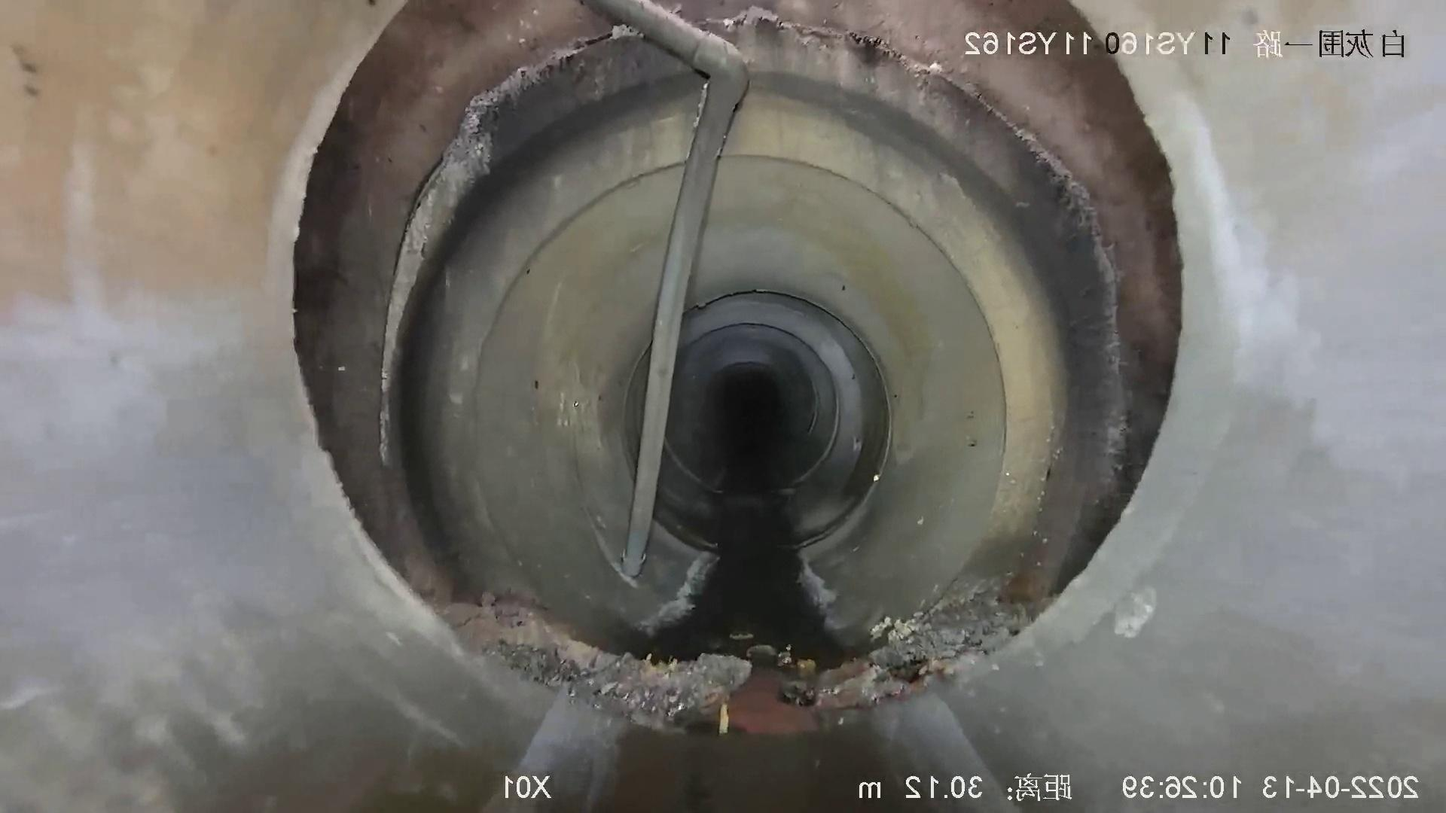YWCR: (586, 0, 749, 578)
